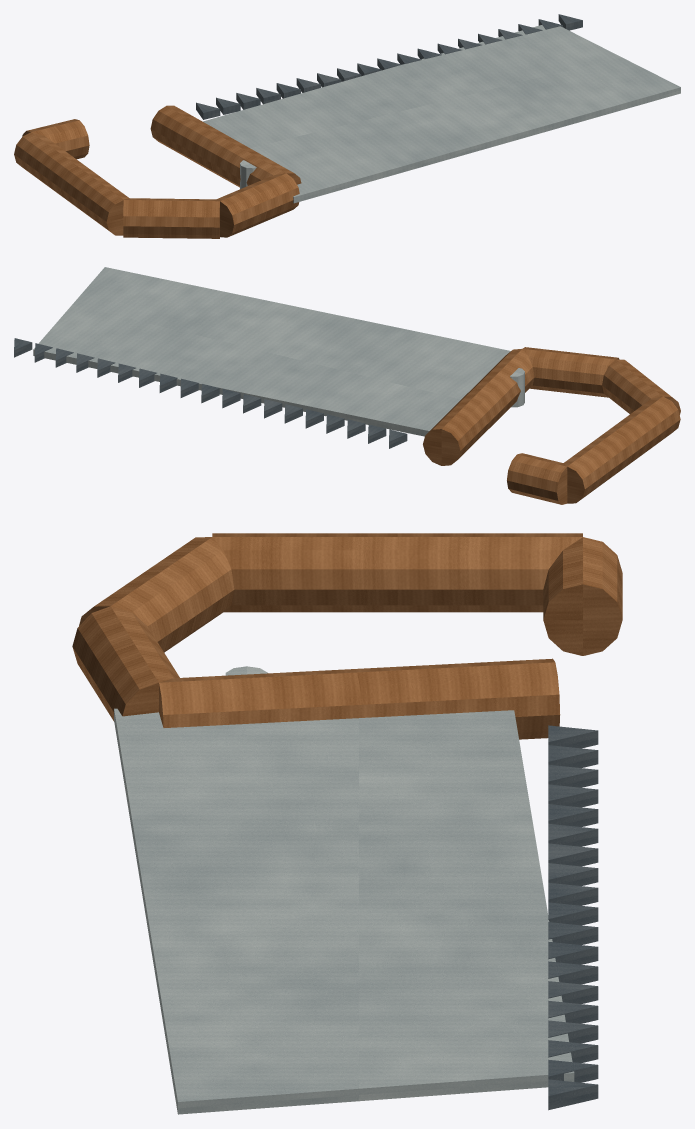
Rendered from PROJECT_Z_Pickup_Handsaw.glb.
3 views of the same model, one above another, from view 1: azimuth 30°, elevation 25°; view 2: azimuth 150°, elevation 25°; view 3: azimuth 270°, elevation 25° (orthographic). The views are drawn at different scales.
Parts seen in each view (by area): view 1: SAW_TaperedBlade, SAW_ClosedWoodHandle_1, SAW_ClosedWoodHandle_4, SAW_ClosedWoodHandle_2, SAW_ClosedWoodHandle_3, SAW_ClosedWoodHandle_0; view 2: SAW_TaperedBlade, SAW_ClosedWoodHandle_4, SAW_ClosedWoodHandle_1, SAW_ClosedWoodHandle_3, SAW_ClosedWoodHandle_0, SAW_ClosedWoodHandle_2; view 3: SAW_TaperedBlade, SAW_ClosedWoodHandle_1, SAW_ClosedWoodHandle_4, SAW_ClosedWoodHandle_2, SAW_ClosedWoodHandle_0, SAW_ClosedWoodHandle_3, SAW_Tooth_18, SAW_Tooth_00, SAW_Tooth_03, SAW_Tooth_02, SAW_Tooth_05, SAW_Tooth_06 (+12 smaller).
Part boxes in pixels (x1,y1,x2,y2): SAW_TaperedBlade: (203, 22, 680, 203); SAW_ClosedWoodHandle_1: (14, 132, 129, 235); SAW_ClosedWoodHandle_4: (150, 105, 301, 187); SAW_ClosedWoodHandle_2: (123, 198, 219, 238); SAW_ClosedWoodHandle_3: (216, 173, 299, 237); SAW_ClosedWoodHandle_0: (22, 119, 89, 159); SAW_TaperedBlade: (33, 267, 510, 436); SAW_ClosedWoodHandle_4: (423, 348, 534, 465); SAW_ClosedWoodHandle_1: (563, 396, 680, 503); SAW_ClosedWoodHandle_3: (523, 347, 619, 397); SAW_ClosedWoodHandle_0: (507, 453, 567, 504); SAW_ClosedWoodHandle_2: (602, 359, 680, 415); SAW_TaperedBlade: (114, 708, 574, 1114); SAW_ClosedWoodHandle_1: (212, 533, 582, 612); SAW_ClosedWoodHandle_4: (159, 658, 560, 739); SAW_ClosedWoodHandle_2: (79, 537, 234, 652); SAW_ClosedWoodHandle_0: (543, 537, 622, 655); SAW_ClosedWoodHandle_3: (72, 606, 179, 721); SAW_Tooth_18: (548, 1079, 598, 1110); SAW_Tooth_00: (548, 725, 598, 748); SAW_Tooth_03: (548, 784, 598, 807); SAW_Tooth_02: (548, 764, 598, 787); SAW_Tooth_05: (548, 823, 598, 846); SAW_Tooth_06: (548, 843, 598, 866).
Size of the model in its own units: 0.758 by 0.046 by 0.3192.
Materials: 3 (3 with a texture image).
